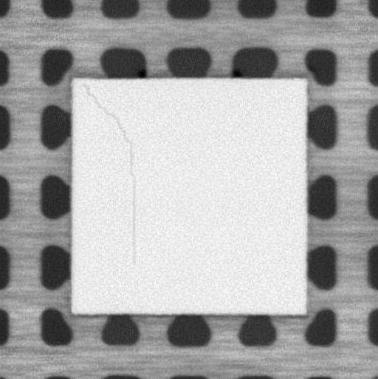DIE_CRACK: (84, 83, 140, 264)
